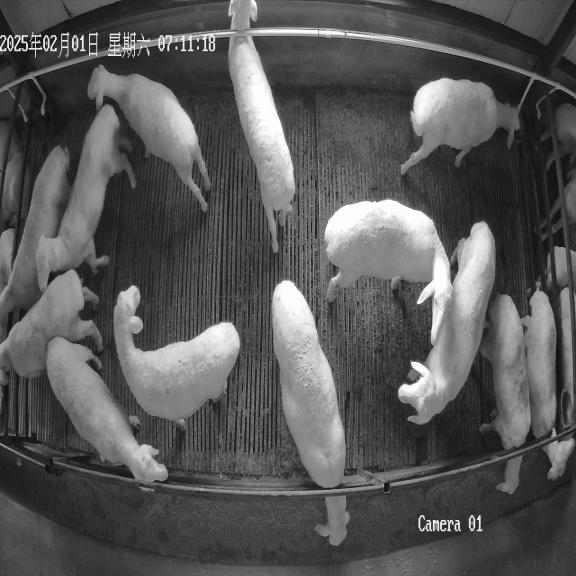drinking: (401, 78, 520, 175)
eating: (272, 280, 349, 545), (479, 295, 531, 494), (522, 288, 574, 480)
stand: (398, 222, 495, 424), (36, 104, 135, 289), (114, 286, 240, 431), (324, 200, 451, 342), (88, 65, 210, 212), (47, 337, 168, 481), (228, 0, 295, 253), (0, 146, 70, 326), (0, 270, 103, 385)
